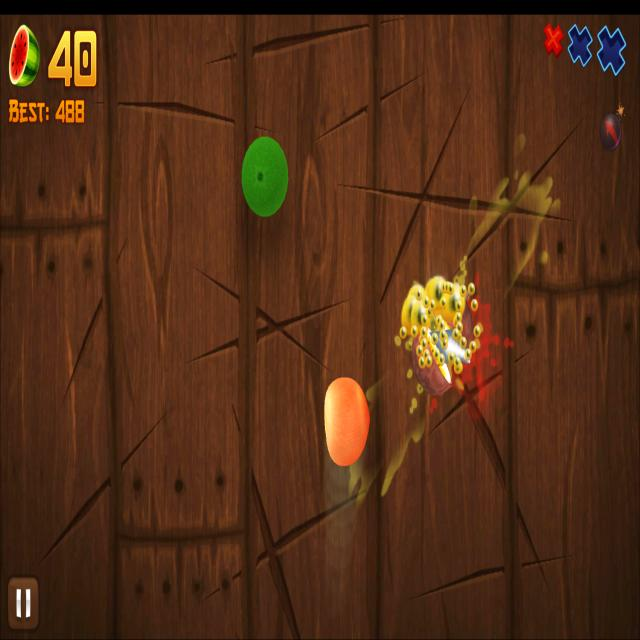fruit: (324, 377, 371, 466), (241, 135, 289, 218)
